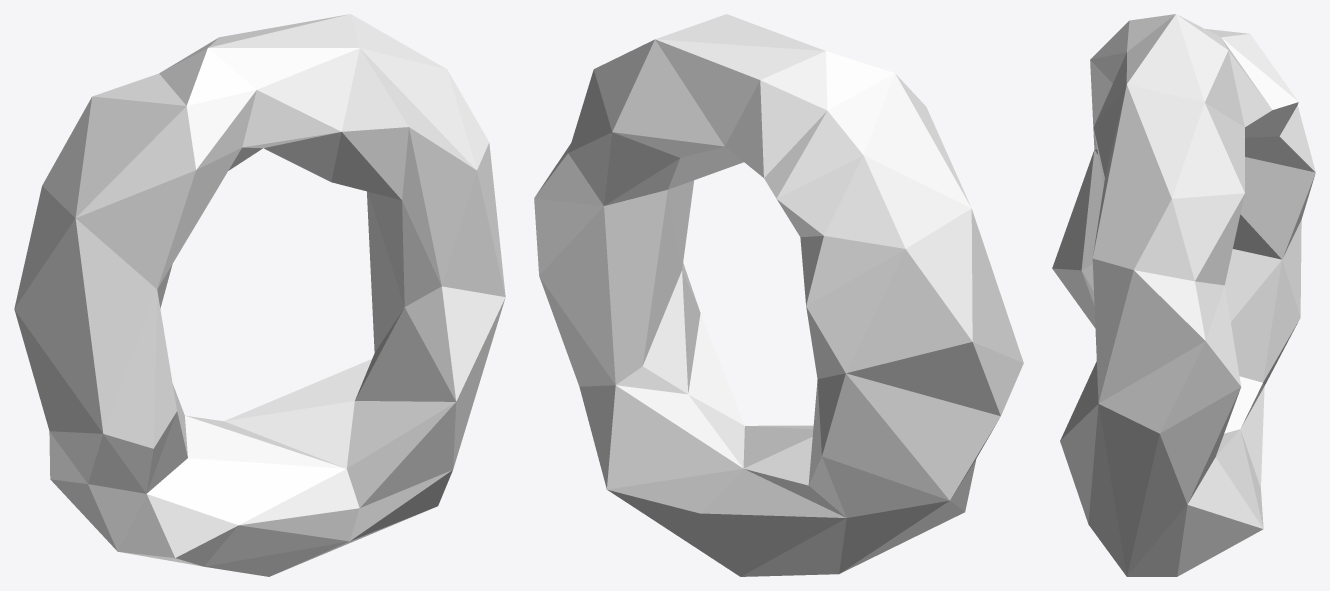
File: ruins.torus.glb
3 views of the same model, side by side, from view 1: azimuth 30°, elevation 25°; view 2: azimuth 150°, elevation 25°; view 3: azimuth 270°, elevation 25° (orthographic). The views are drawn at different scales.
Visible parts, largest first — view 1: torus; view 2: torus; view 3: torus.
Boxes of the visible parts, bbox=[...] form: torus: bbox=[14, 14, 505, 576]; torus: bbox=[534, 14, 1023, 576]; torus: bbox=[1052, 14, 1315, 576].
Bounding box in the file's own units: 2.59 × 2.95 × 1.36.
Materials: 1 (1 with a texture image).
